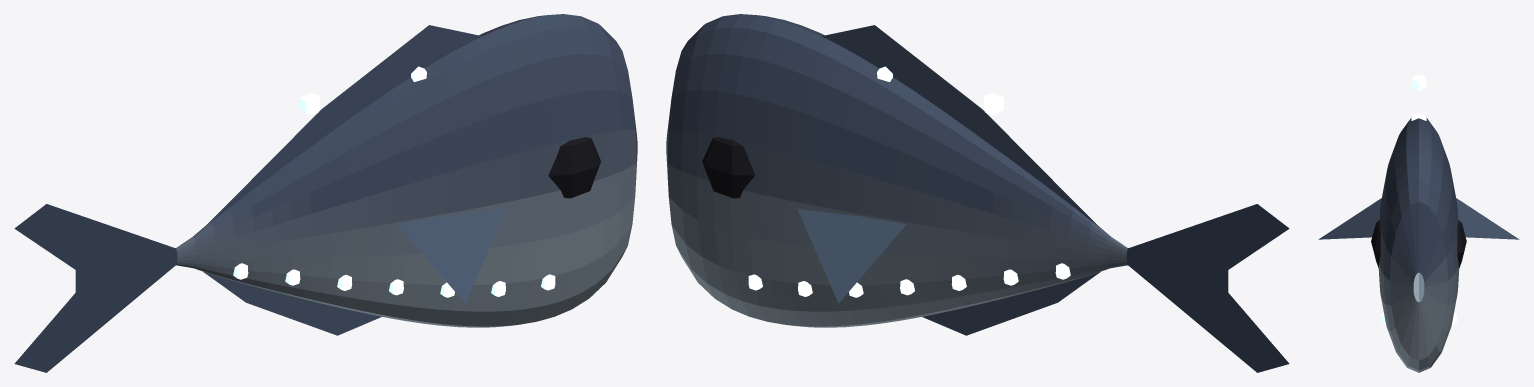
File: lantern.glb
3 views of the same model, side by side, from view 1: azimuth 30°, elevation 25°; view 2: azimuth 150°, elevation 25°; view 3: azimuth 270°, elevation 25° (orthographic). The views are drawn at different scales.
Parts seen in each view (by area): view 1: Body, Tail; view 2: Body, Tail; view 3: Body.
Part boxes in pixels (x1,y1,x2,y2): Body: [176, 14, 637, 335]; Tail: [14, 204, 177, 372]; Body: [666, 14, 1127, 335]; Tail: [1126, 204, 1289, 372]; Body: [1318, 74, 1519, 372].
Bounding box in the file's own units: 1.15 × 0.571 × 0.44.
